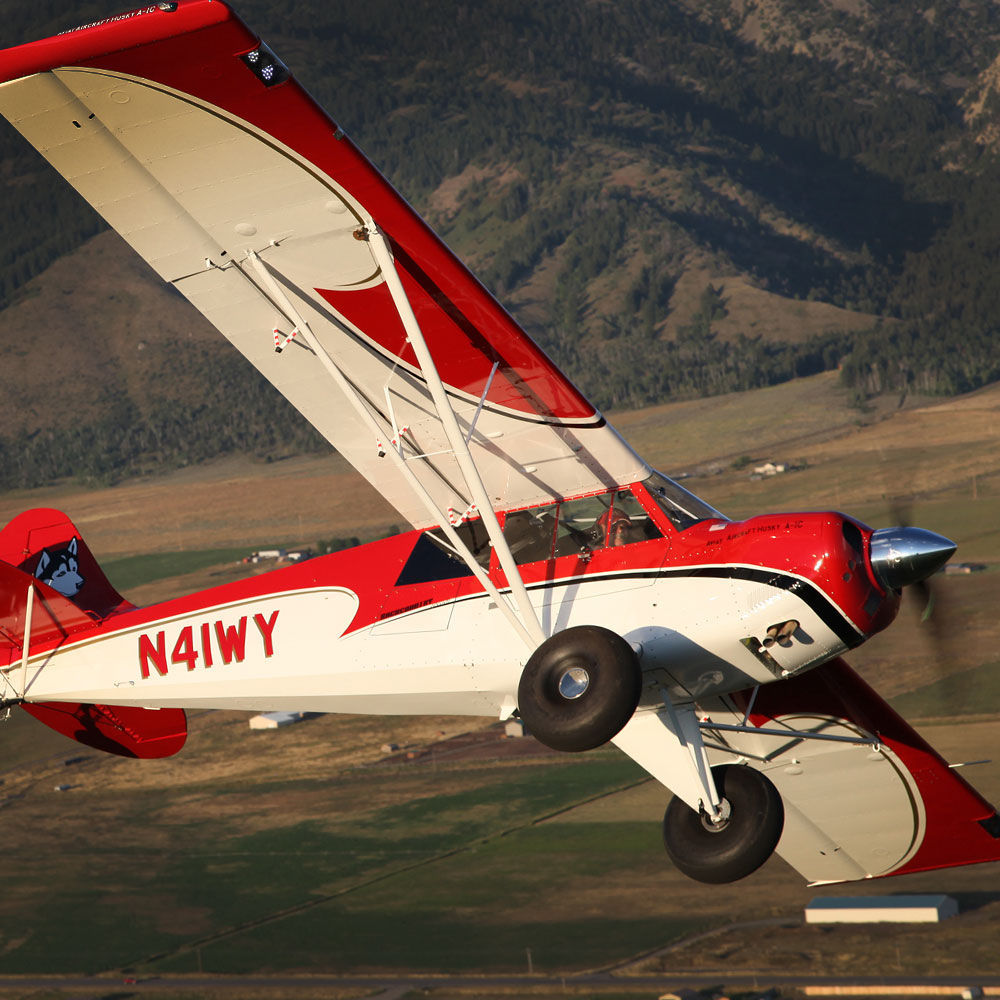Aeronef_de_loisir: (1, 1, 997, 958)
